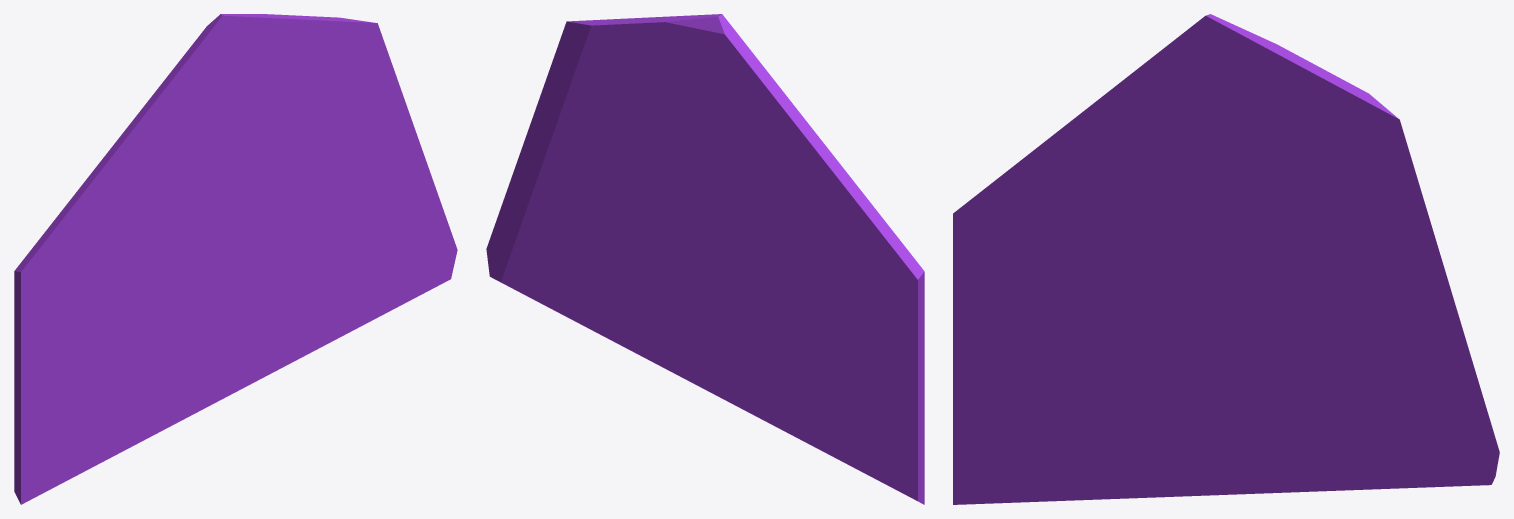
File: Glass_85_1_chunks.fbx
The picture shows the model from 3 angles, left to right: view 1: azimuth 30°, elevation 25°; view 2: azimuth 150°, elevation 25°; view 3: azimuth 330°, elevation 25°; orthographic projection. The views are drawn at different scales.
Visible parts, largest first — view 1: Glass_85_1_1, Glass_85_1_9, Glass_85_1_5, Glass_85_1_0, Glass_85_1_2, Glass_85_1_6, Glass_85_1_10, Glass_85_1_4, Glass_85_1_13, Glass_85_1_8, Glass_85_1_3, Glass_85_1_11 (+4 smaller); view 2: Glass_85_1_1, Glass_85_1_9, Glass_85_1_5, Glass_85_1_2, Glass_85_1_4, Glass_85_1_3, Glass_85_1_6, Glass_85_1_10, Glass_85_1_17, Glass_85_1_8, Glass_85_1_16, Glass_85_1_0 (+2 smaller); view 3: Glass_85_1_1, Glass_85_1_9, Glass_85_1_5, Glass_85_1_0, Glass_85_1_6, Glass_85_1_2, Glass_85_1_10, Glass_85_1_4, Glass_85_1_13, Glass_85_1_8, Glass_85_1_3, Glass_85_1_11 (+4 smaller).
Part boxes in pixels (box(x1,y1,x2,y2)): Glass_85_1_1: box(14, 282, 175, 504); Glass_85_1_9: box(285, 16, 427, 186); Glass_85_1_5: box(324, 164, 457, 328); Glass_85_1_0: box(97, 63, 257, 223); Glass_85_1_2: box(14, 170, 118, 352); Glass_85_1_6: box(203, 175, 365, 285); Glass_85_1_10: box(173, 14, 321, 97); Glass_85_1_4: box(89, 122, 208, 284); Glass_85_1_13: box(197, 256, 333, 333); Glass_85_1_8: box(204, 95, 305, 194); Glass_85_1_3: box(135, 215, 234, 336); Glass_85_1_11: box(114, 318, 218, 455); Glass_85_1_1: box(763, 292, 924, 504); Glass_85_1_9: box(517, 18, 671, 192); Glass_85_1_5: box(486, 163, 612, 325); Glass_85_1_2: box(808, 178, 924, 361); Glass_85_1_4: box(703, 128, 856, 273); Glass_85_1_3: box(682, 174, 813, 356); Glass_85_1_6: box(571, 181, 732, 298); Glass_85_1_10: box(620, 14, 759, 100); Glass_85_1_17: box(577, 261, 688, 369); Glass_85_1_8: box(634, 98, 746, 201); Glass_85_1_16: box(666, 345, 817, 448); Glass_85_1_0: box(716, 62, 847, 173); Glass_85_1_1: box(953, 286, 1146, 504); Glass_85_1_9: box(1284, 74, 1461, 326); Glass_85_1_5: box(1332, 303, 1499, 489); Glass_85_1_0: box(1048, 52, 1249, 283); Glass_85_1_6: box(1181, 261, 1384, 378); Glass_85_1_2: box(953, 147, 1075, 308); Glass_85_1_10: box(1158, 14, 1333, 136); Glass_85_1_4: box(1038, 139, 1188, 298); Glass_85_1_13: box(1174, 341, 1344, 442); Glass_85_1_8: box(1182, 106, 1309, 279); Glass_85_1_3: box(1097, 257, 1221, 388); Glass_85_1_11: box(1069, 375, 1200, 500).
Size of the model in its own units: 1029 by 991 by 27.2.
